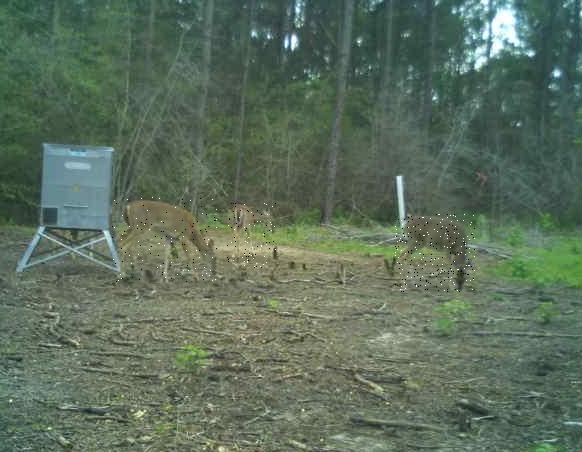Deer: (113, 198, 219, 286), (395, 214, 475, 292), (226, 203, 276, 268)
